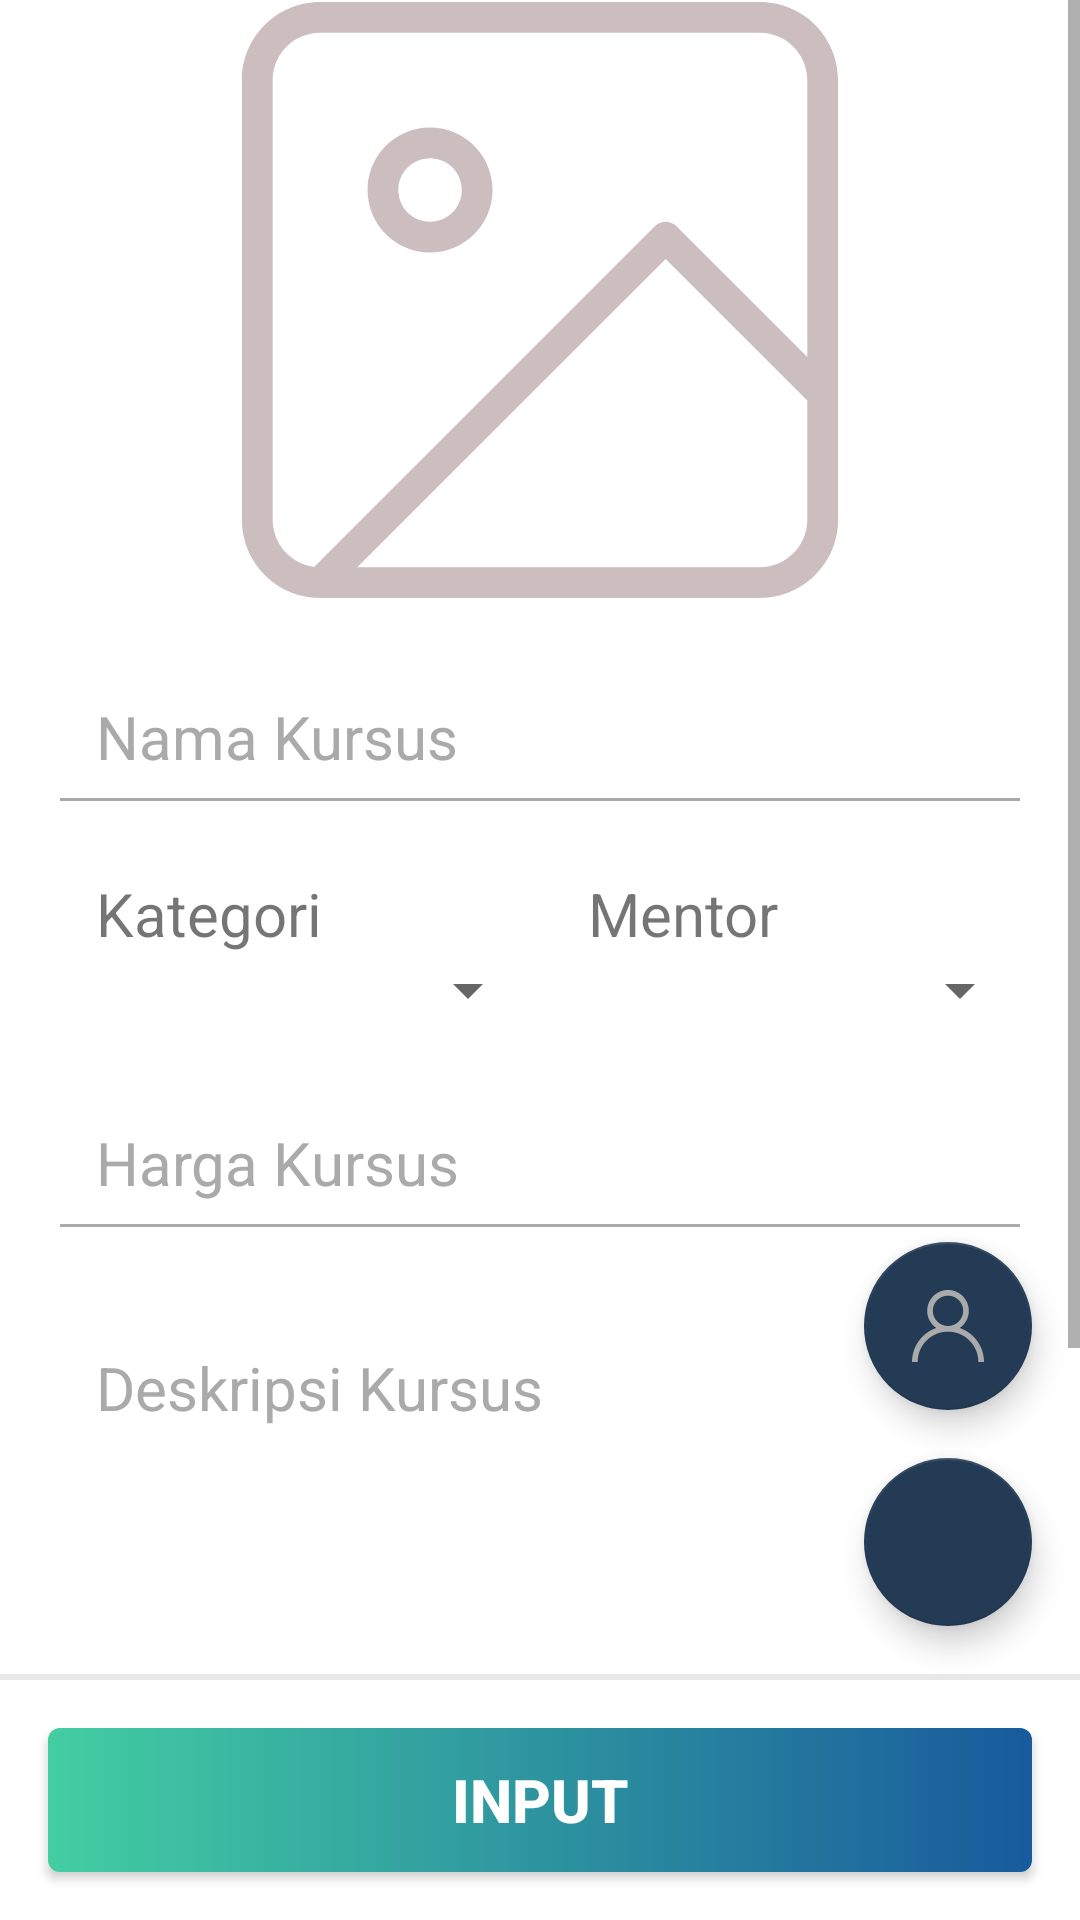

Screen size 1080*1920. Icon name, then its center in pixels as (x,y):
user: (948,1326)
